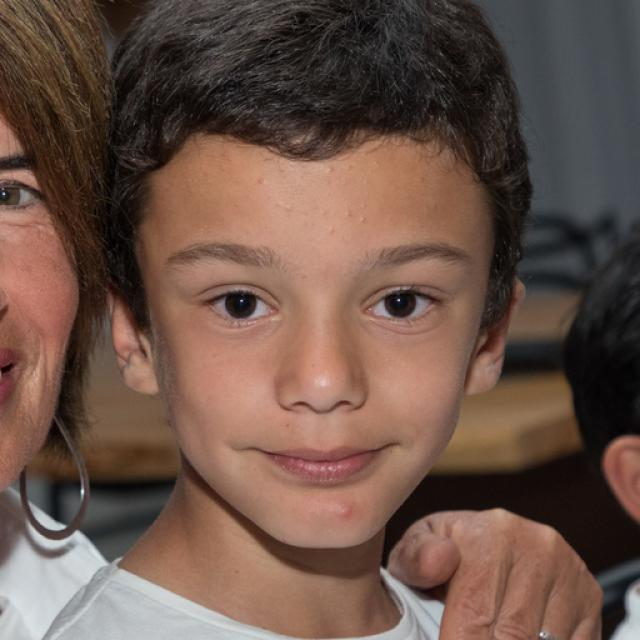Acne: (249, 173, 276, 190), (334, 502, 356, 522), (337, 208, 359, 222), (340, 160, 359, 175), (269, 201, 290, 214), (320, 164, 339, 178), (353, 217, 370, 230), (278, 204, 296, 216), (327, 224, 339, 238)
